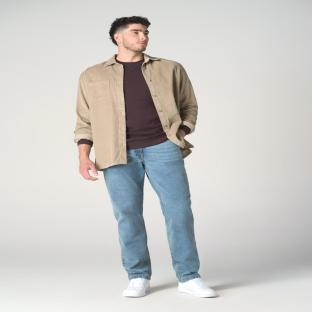Human: (75, 16, 217, 297)
